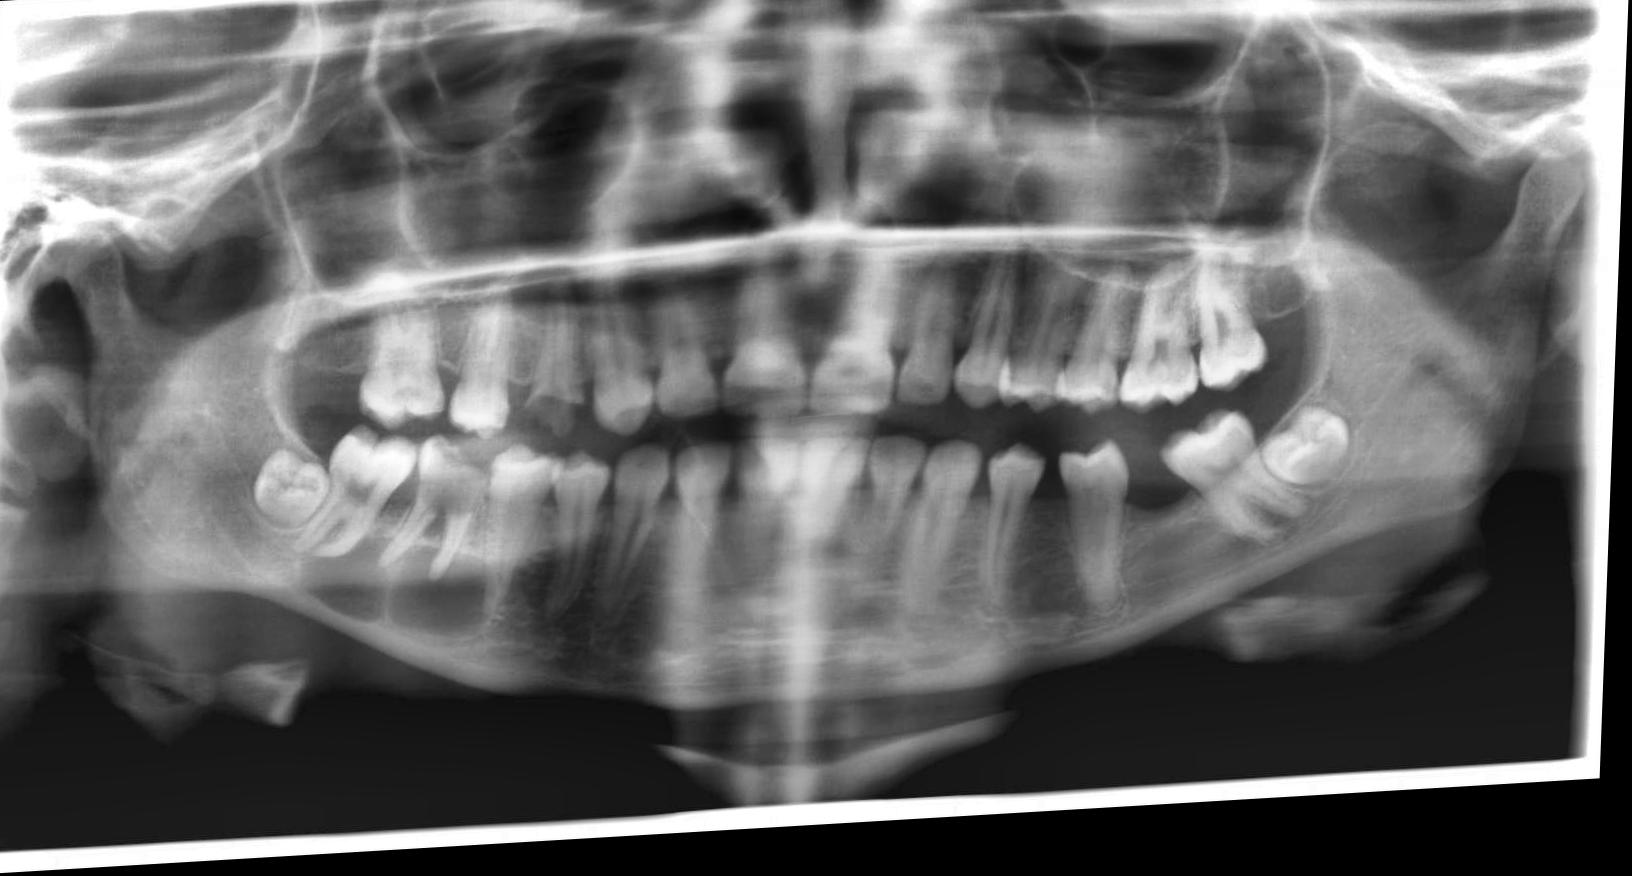radikuler: (302, 534, 505, 659)
